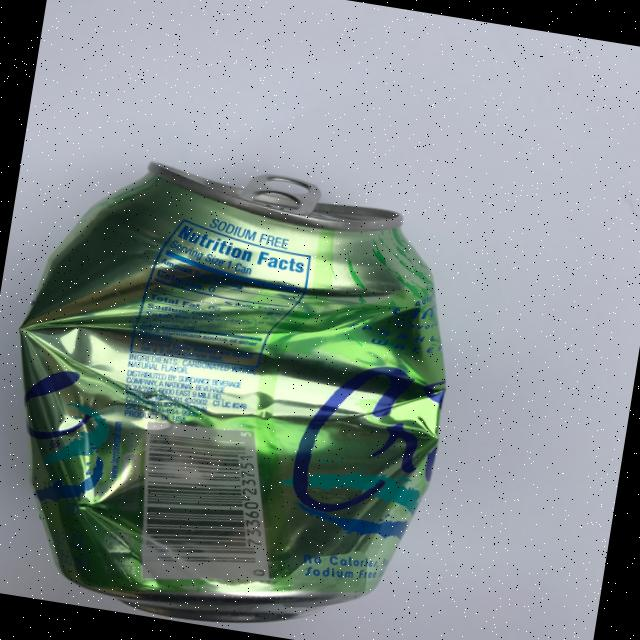metal: (0, 137, 478, 640)
